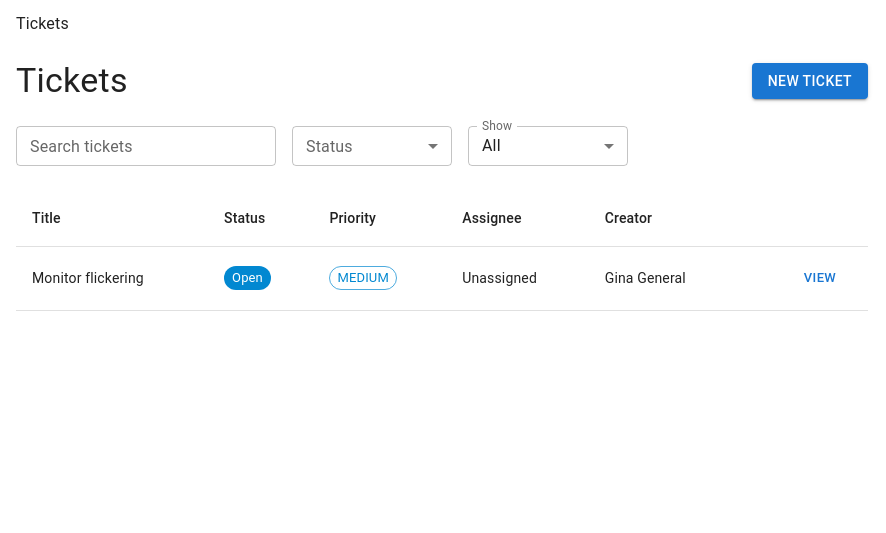
Test: View and edit navigation › navigates from list View to a read-only detail page, then to a separate edit page (FR-003, FR-016, FR-017)
Click the link "View": (820, 278) [804,270,836,285]
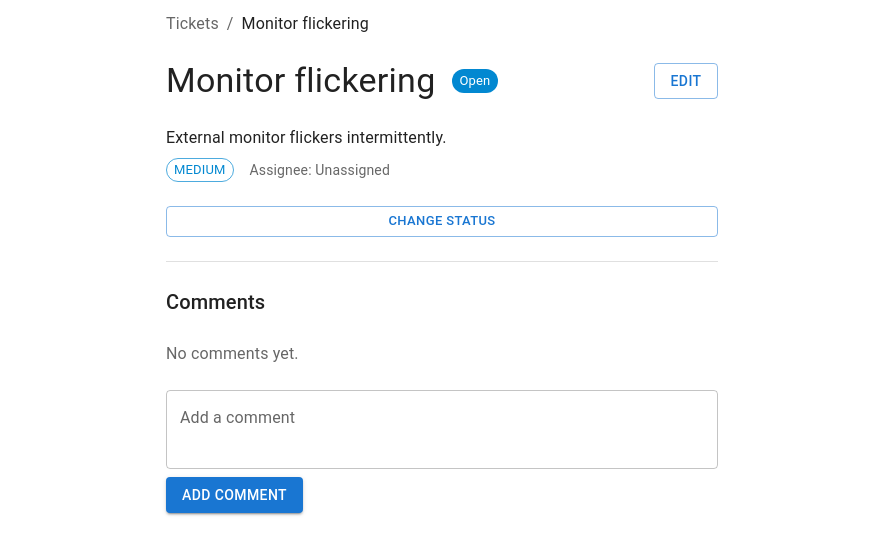
Expected: the heading "Monitor flickering" is shown, [166,60,436,102]
Expected: the column heading labelled "Title" is gone
Click the link "Edit": (686, 81) [654,63,718,99]
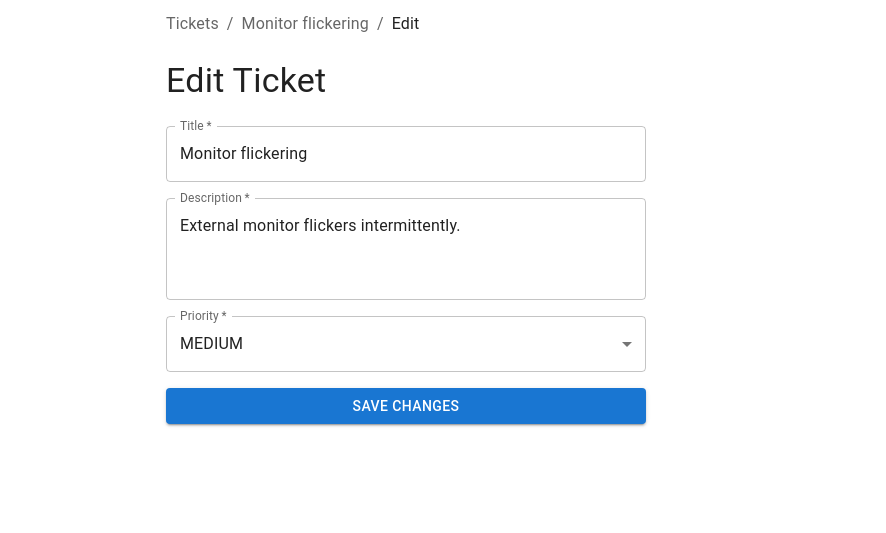
Expected: the field labelled "Title *" holds "Monitor flickering", [166,126,646,182]
